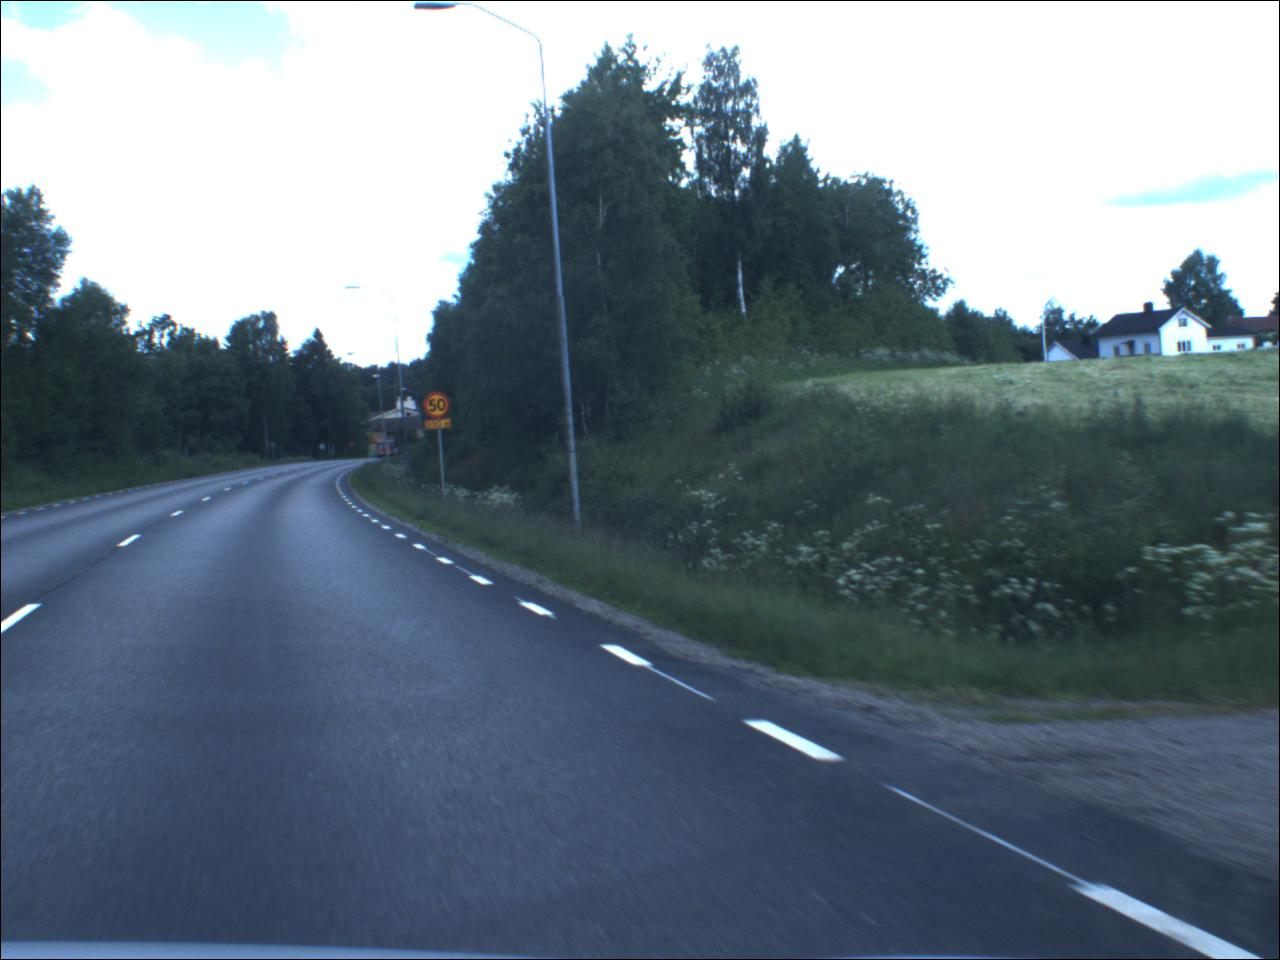50_SIGN: (424, 393, 454, 422)
